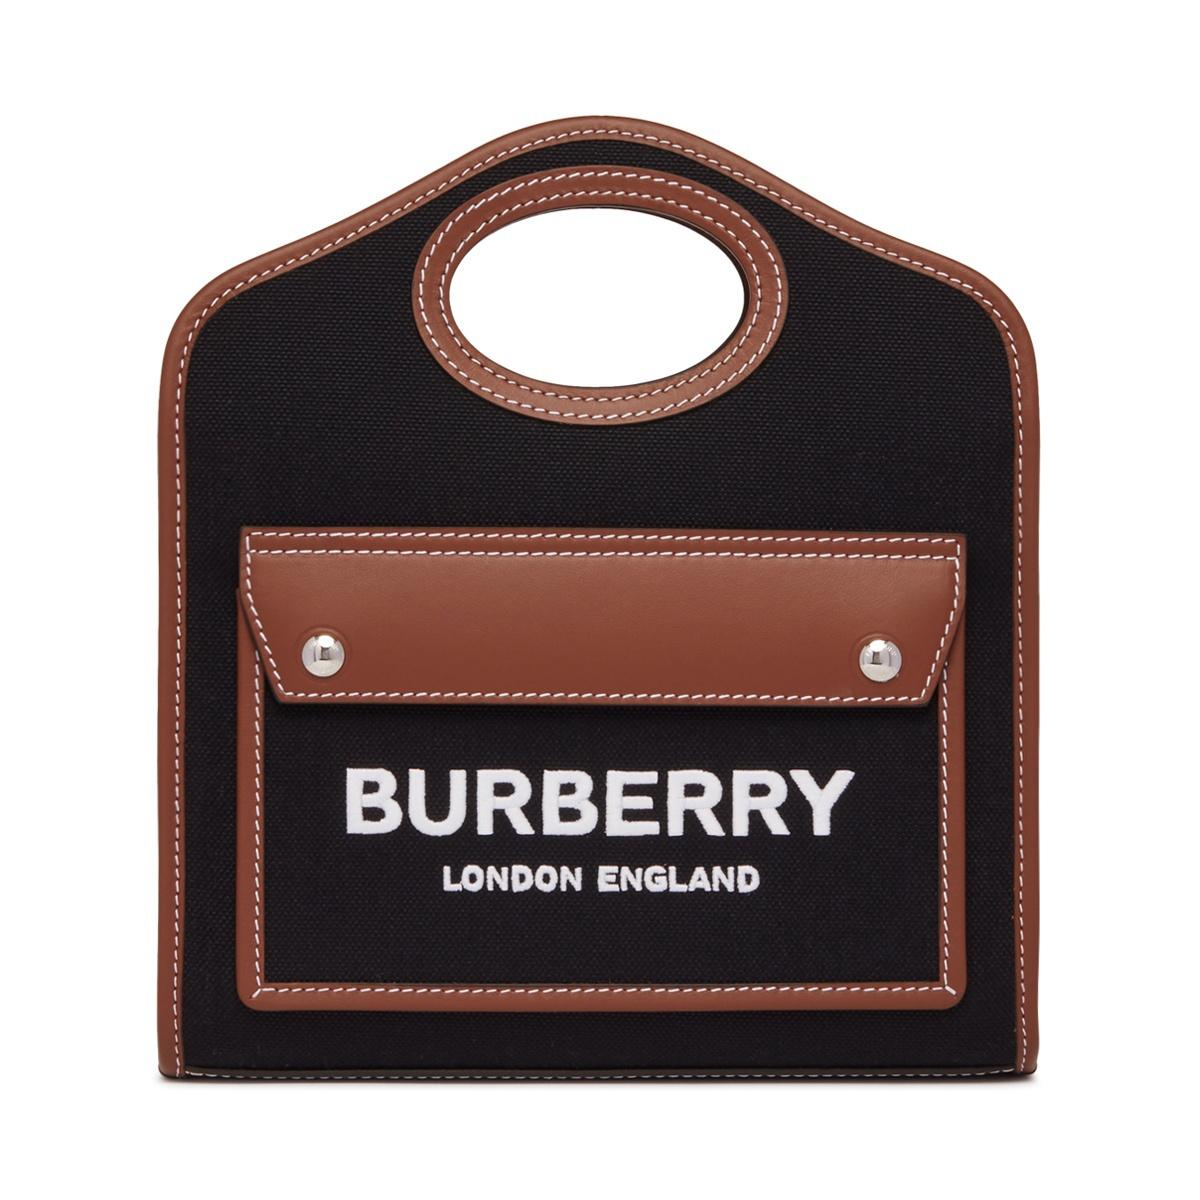BURBERRY: (346, 766, 855, 836)
